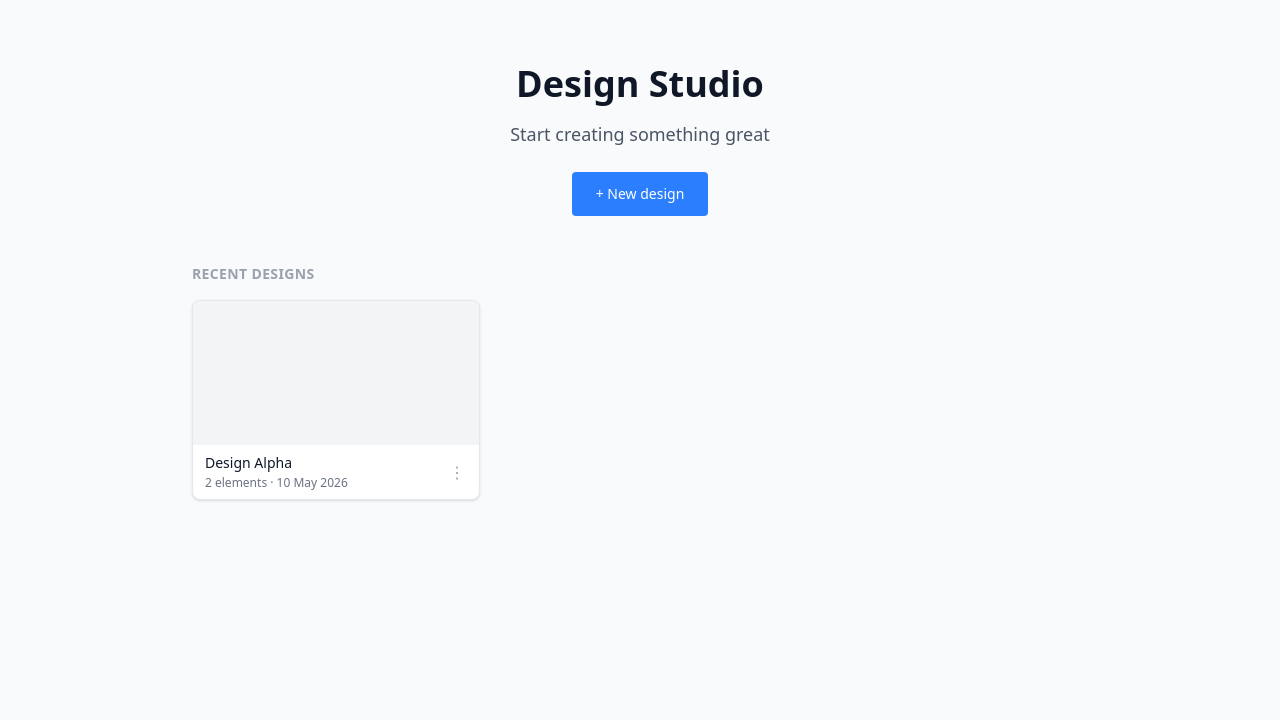
AC9 — delete API error › closes the dialog after a failed delete
The image size is (1280, 720).
Expected: the text "Design Alpha" is shown, 205,453 -> 292,472
Click the button named "project options".
click(457, 472)  # box 447,453 -> 467,491
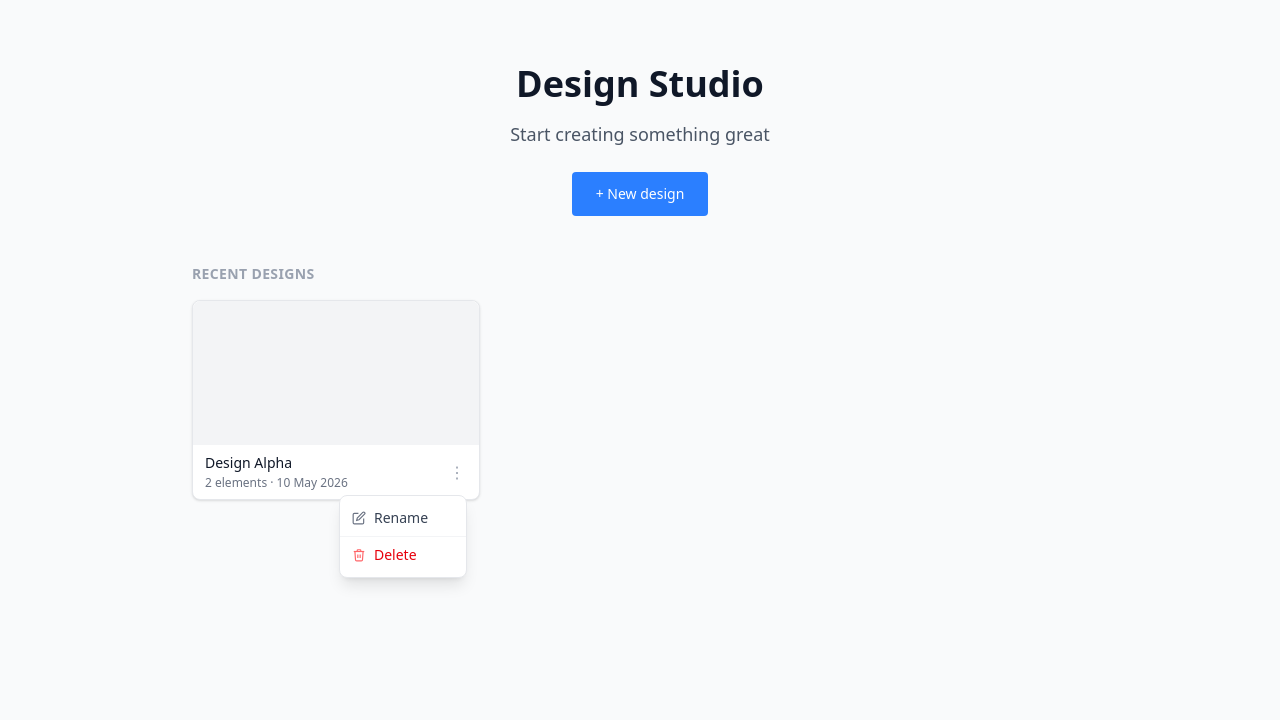
Click the button "Delete".
click(403, 555)  # box 340,537 -> 466,573
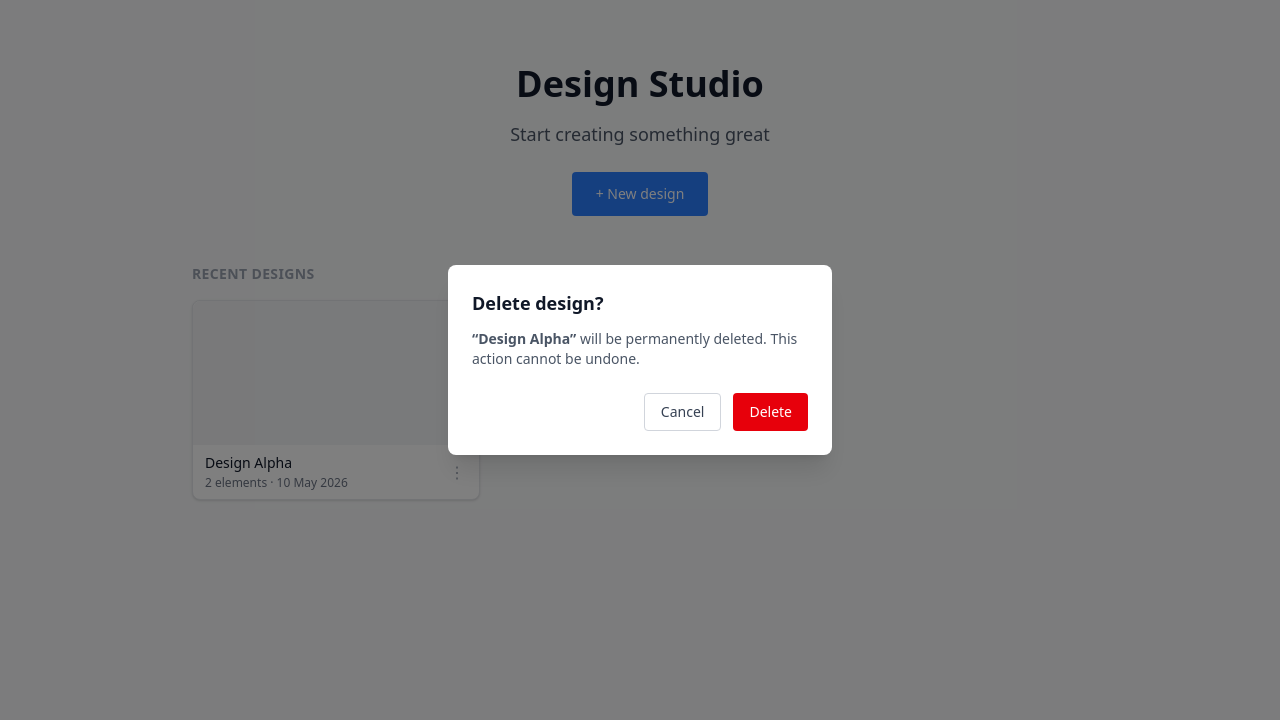
Click the button "Delete".
click(771, 412)  # box 733,393 -> 808,431
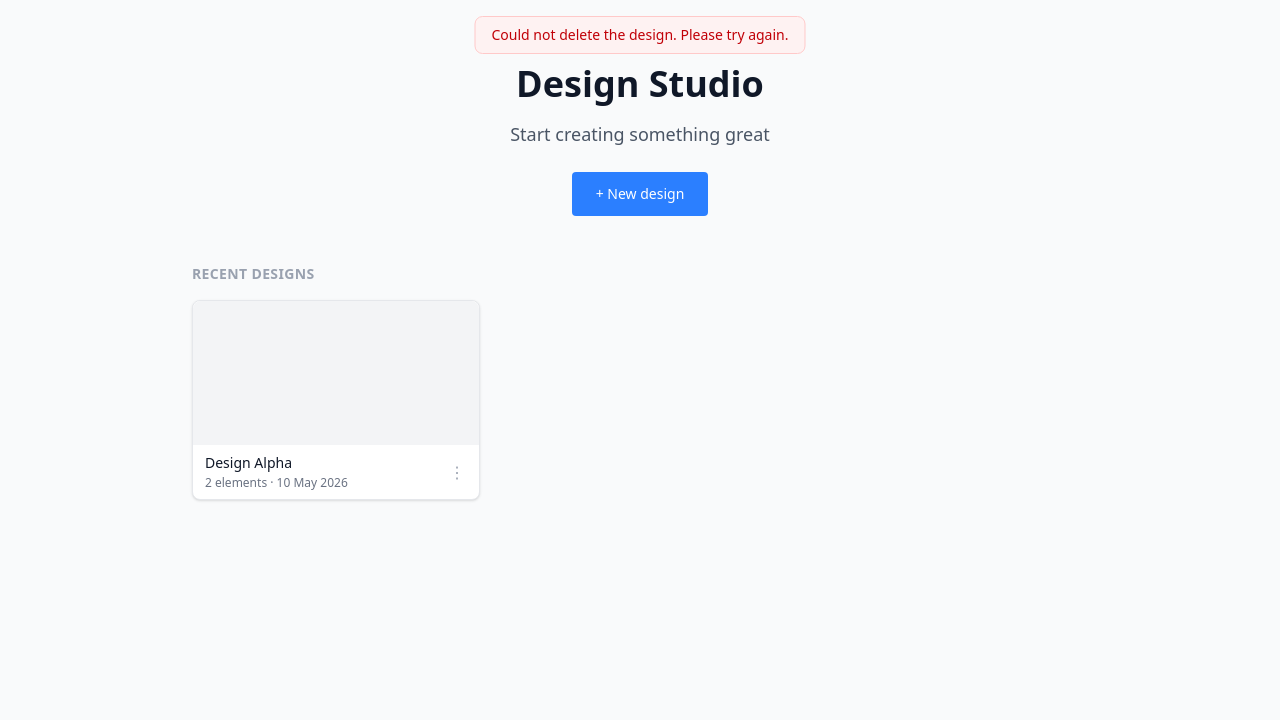
Expected: the heading "Delete design?" is gone
